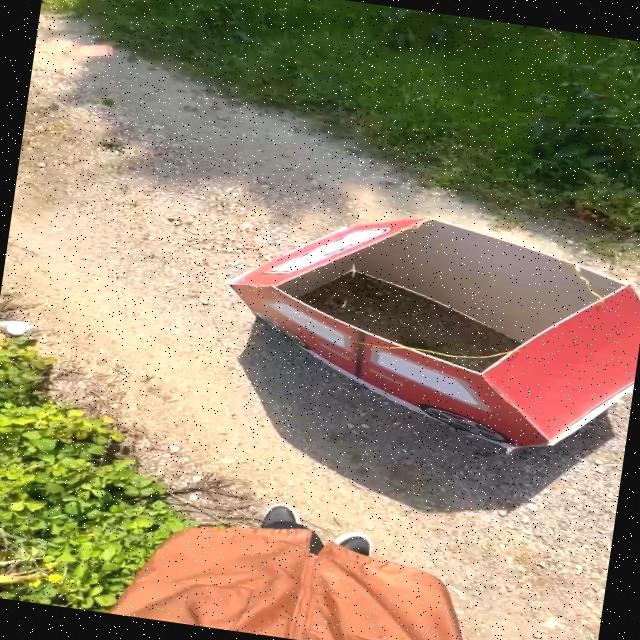red_car: (197, 189, 640, 473)
